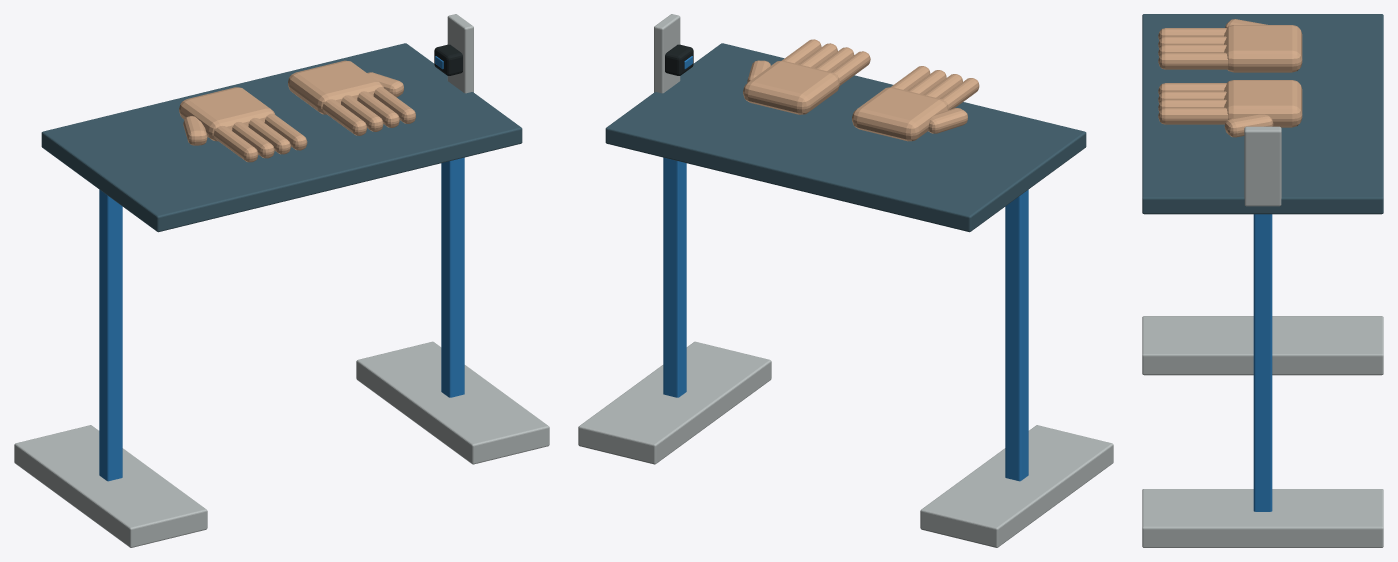
Rendered from hand_presence_sensor.glb.
3 renders of one model, left to right at view 1: azimuth 30°, elevation 25°; view 2: azimuth 150°, elevation 25°; view 3: azimuth 270°, elevation 25°, orthographic. The views are drawn at different scales.
Parts seen in each view (by area): view 1: HAND_STATION_tray, HAND_STATION_foot_0.44, HAND_STATION_foot_-0.44, HAND_STATION_post_-0.44, HAND_STATION_post_0.44, HAND_1_palm, HAND_0_palm, HAND_SENSOR_bracket, HAND_1_finger_0, HAND_0_finger_0, HAND_SENSOR_body, HAND_0_finger_3 (+5 smaller); view 2: HAND_STATION_tray, HAND_STATION_foot_0.44, HAND_STATION_foot_-0.44, HAND_STATION_post_-0.44, HAND_STATION_post_0.44, HAND_1_palm, HAND_0_palm, HAND_SENSOR_bracket, HAND_0_thumb, HAND_SENSOR_body, HAND_1_finger_0, HAND_0_finger_0; view 3: HAND_STATION_tray, HAND_STATION_foot_0.44, HAND_STATION_foot_-0.44, HAND_STATION_post_0.44, HAND_0_palm, HAND_1_palm, HAND_SENSOR_bracket, HAND_0_finger_3, HAND_1_finger_3, HAND_1_thumb, HAND_0_finger_1, HAND_1_finger_1 (+4 smaller).
Boxes of the visible parts, x1,y1,x2,y2 form: HAND_STATION_tray: (41,43,522,232); HAND_STATION_foot_0.44: (356,341,549,464); HAND_STATION_foot_-0.44: (14,425,207,547); HAND_STATION_post_-0.44: (99,189,122,481); HAND_STATION_post_0.44: (441,157,464,397); HAND_1_palm: (288,60,383,114); HAND_0_palm: (179,87,274,141); HAND_SENSOR_bracket: (447,14,473,93); HAND_1_finger_0: (322,99,366,135); HAND_0_finger_0: (214,126,258,162); HAND_SENSOR_body: (434,44,462,75); HAND_0_finger_3: (264,113,307,150); HAND_STATION_tray: (605,43,1086,232); HAND_STATION_foot_0.44: (578,341,771,464); HAND_STATION_foot_-0.44: (920,425,1113,547); HAND_STATION_post_-0.44: (1005,189,1028,481); HAND_STATION_post_0.44: (663,157,686,397); HAND_1_palm: (743,60,839,114); HAND_0_palm: (852,87,948,141); HAND_SENSOR_bracket: (654,14,680,93); HAND_0_thumb: (928,108,967,133); HAND_SENSOR_body: (665,44,693,75); HAND_1_finger_0: (831,51,870,85); HAND_0_finger_0: (940,78,979,109); HAND_STATION_tray: (1142,14,1383,214); HAND_STATION_foot_0.44: (1142,489,1383,547); HAND_STATION_foot_-0.44: (1142,316,1383,375); HAND_STATION_post_0.44: (1253,214,1272,511); HAND_0_palm: (1224,25,1302,72); HAND_1_palm: (1224,80,1302,127); HAND_SENSOR_bracket: (1244,126,1281,206); HAND_0_finger_3: (1158,52,1228,69); HAND_1_finger_3: (1158,107,1228,124); HAND_1_thumb: (1224,114,1273,137); HAND_0_finger_1: (1158,36,1226,48); HAND_1_finger_1: (1158,91,1226,103).
Bounding box in the file's own units: 1.08 × 0.96 × 0.52.
